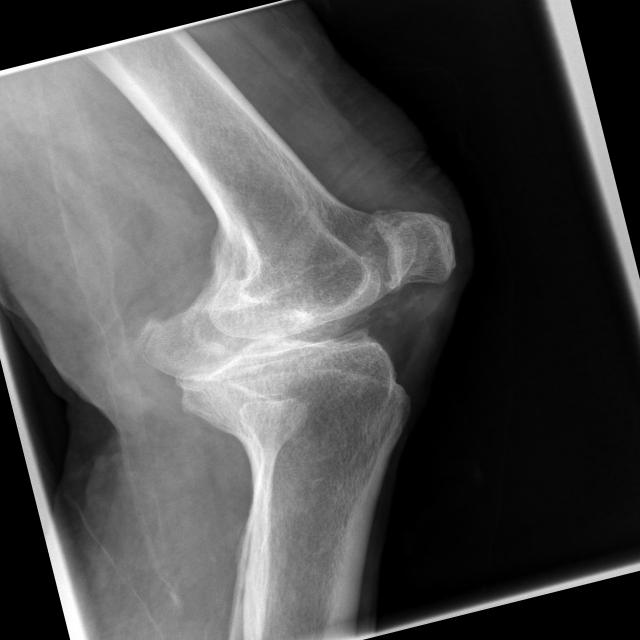Knee: (123, 194, 486, 451)
